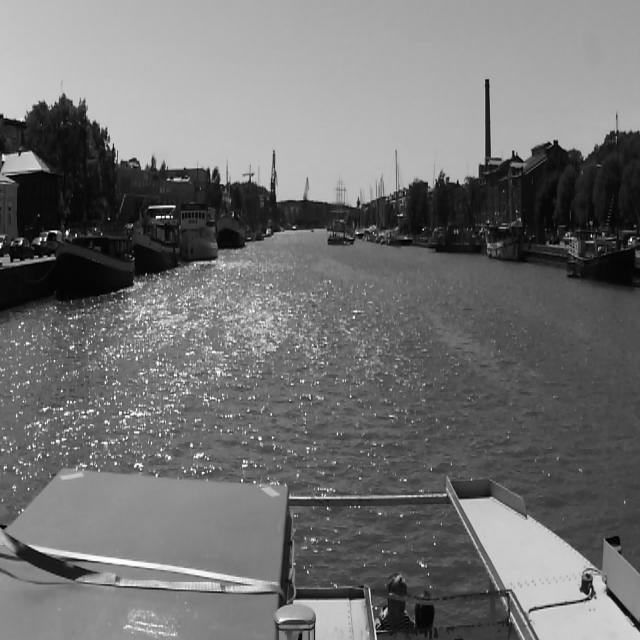ship: (54, 228, 134, 292), (571, 226, 639, 284), (134, 208, 180, 273), (388, 150, 414, 247), (181, 204, 215, 260), (431, 228, 483, 254), (218, 213, 246, 251), (487, 233, 519, 260), (328, 223, 355, 245), (388, 234, 412, 244)
